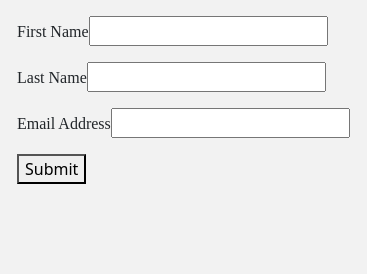
Test: SignupForm Validation › should show error messages for empty required fields
What coordinates should you click on to do the following:
click the button "Submit"
I would click on:
 (52, 169)
Its box is [17,154,86,184].
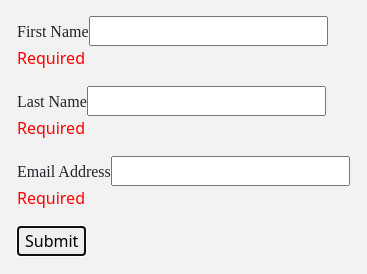
Result: the text "Required" is shown 3 times at [17,47,85,69]; [17,117,85,139]; [17,187,85,209]
